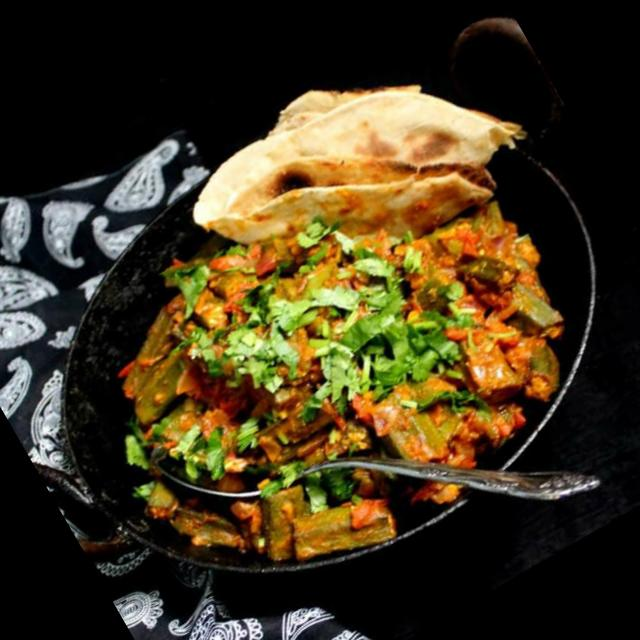BhindiMasala: (49, 102, 626, 636)
